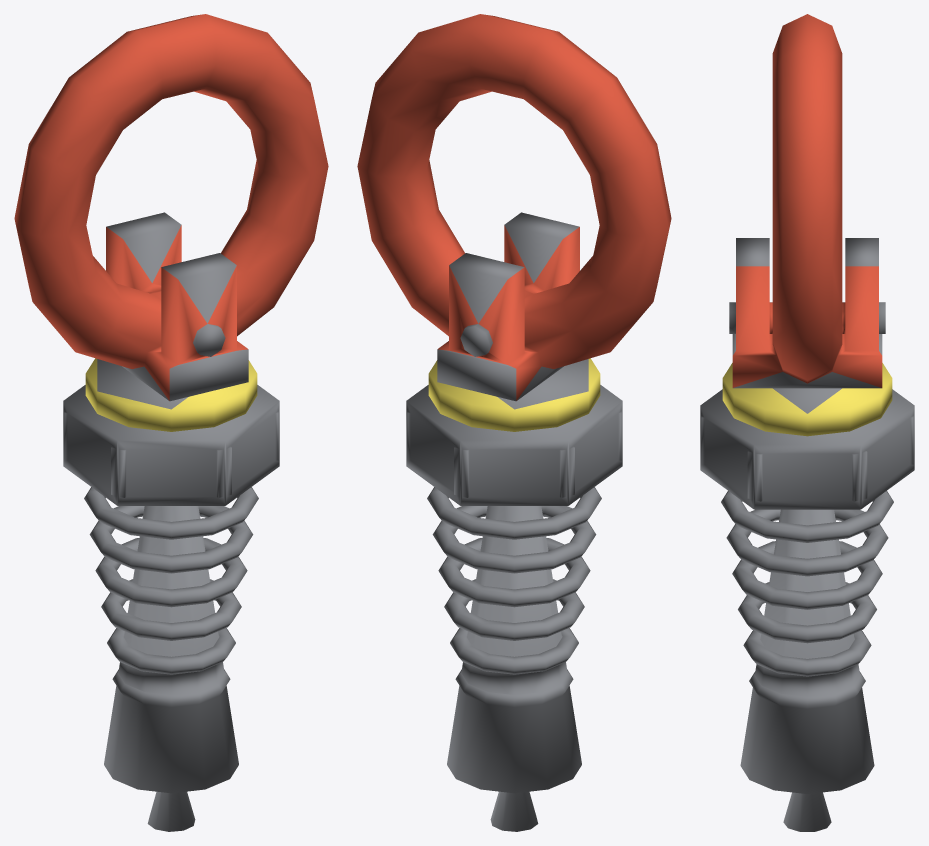
Rendered from MiniVan_WinchHook.fbx.
3 views of the same model, side by side, from view 1: azimuth 30°, elevation 25°; view 2: azimuth 150°, elevation 25°; view 3: azimuth 270°, elevation 25° (orthographic).
Visible parts, largest first — view 1: MiniVan_WinchHook; view 2: MiniVan_WinchHook; view 3: MiniVan_WinchHook.
Boxes of the visible parts, x1,y1,x2,y2 form: MiniVan_WinchHook: (14, 14, 328, 831); MiniVan_WinchHook: (357, 14, 671, 831); MiniVan_WinchHook: (700, 14, 914, 831).
Bounding box in the file's own units: 0.158 × 0.3911 × 0.096.
